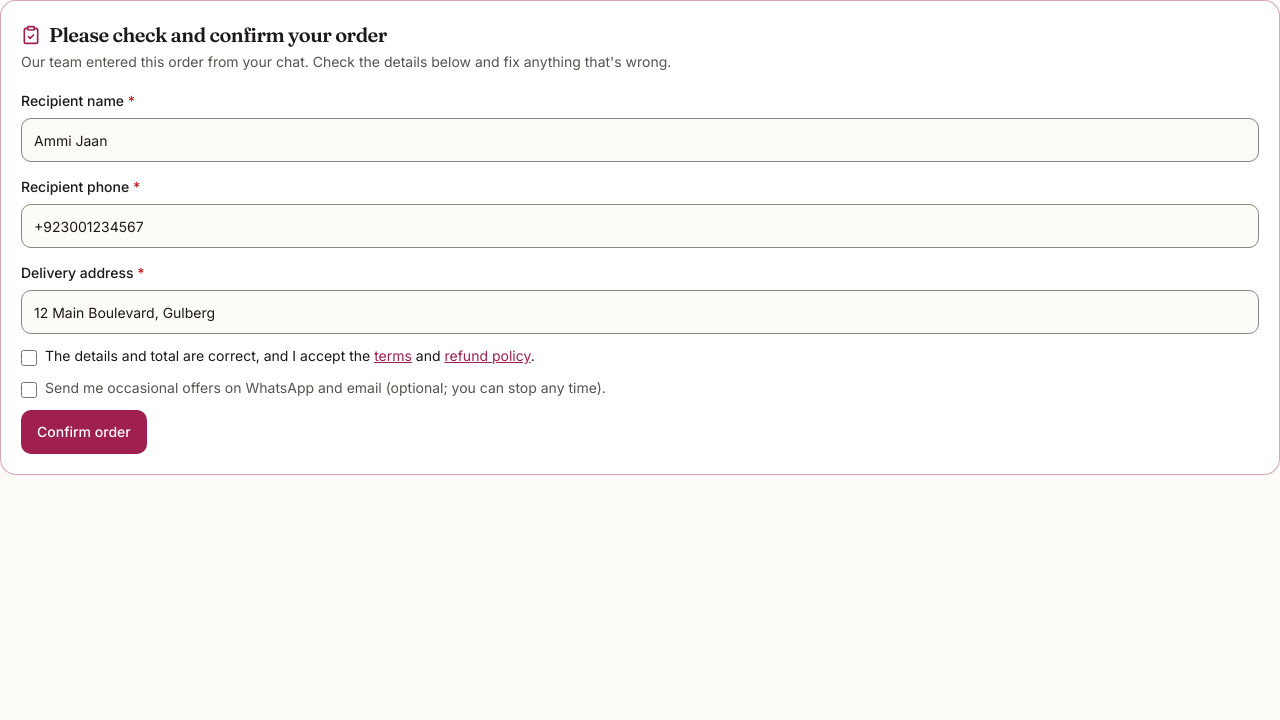
Test: ConfirmOrderPanel › requires accepting the terms
The width and height of the screenshot is (1280, 720).
Click the button "Confirm order". click: (84,432)
box: [21, 410, 147, 454]
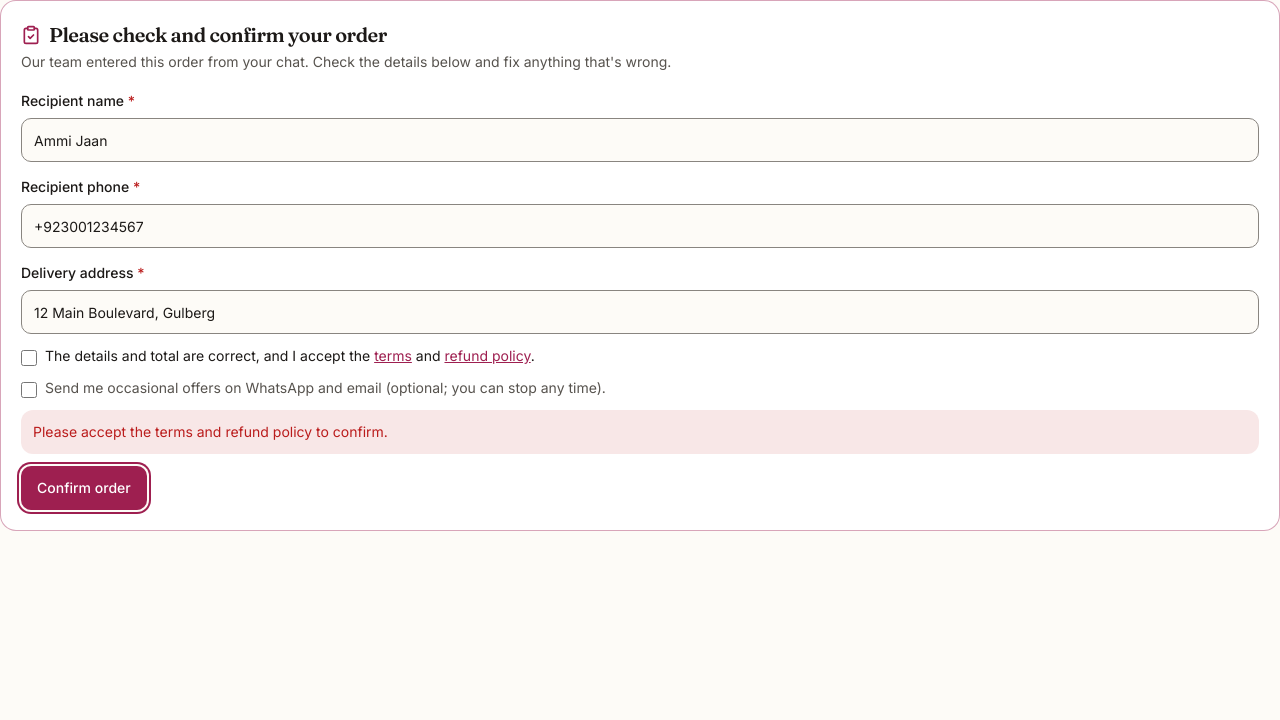
Check: the message shows "accept the terms", box [33, 423, 388, 440]
